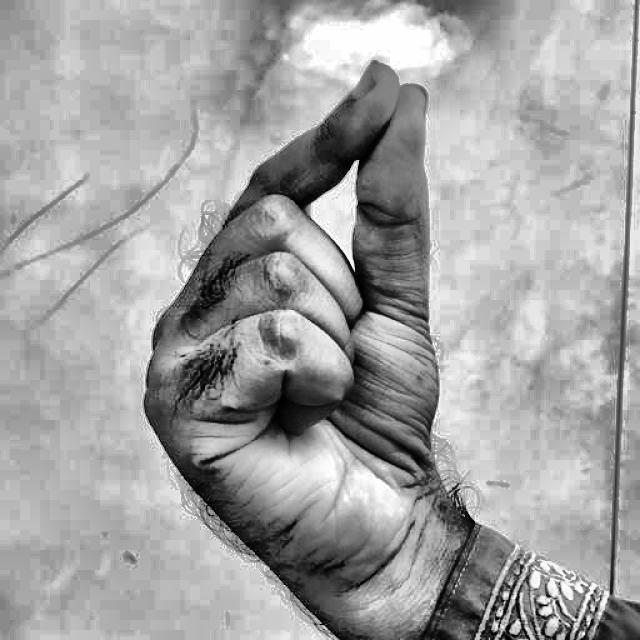Anusshar: (100, 21, 502, 608)
